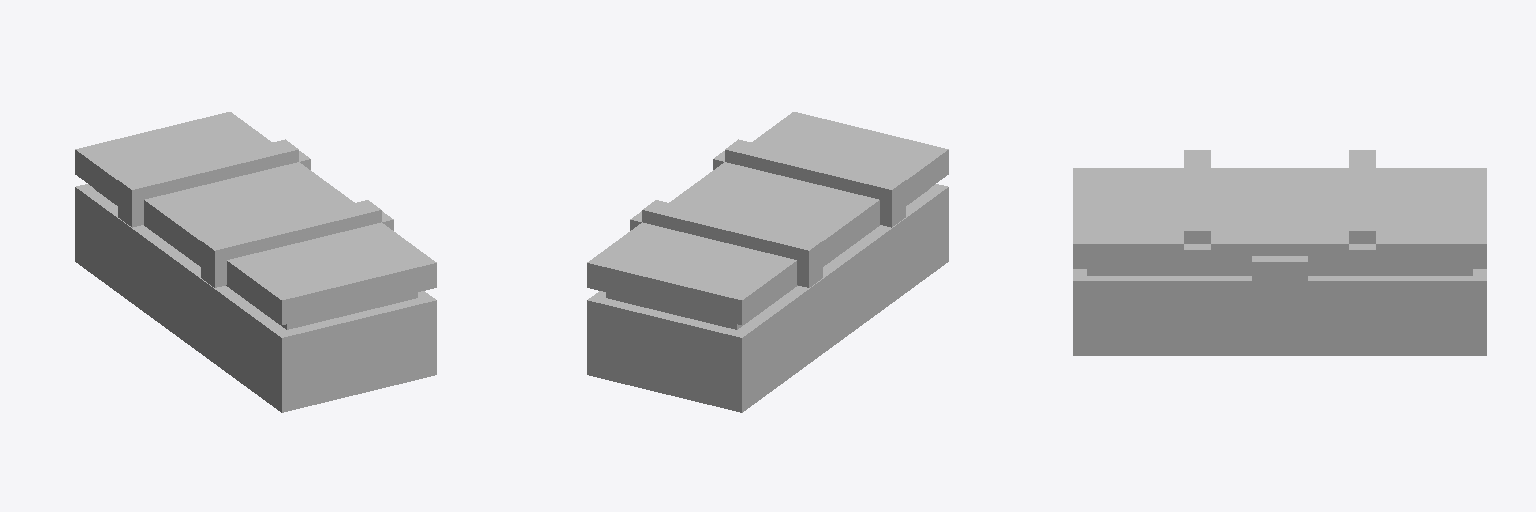
Rendered from chest.obj.
3 renders of one model, left to right at view 1: azimuth 30°, elevation 25°; view 2: azimuth 150°, elevation 25°; view 3: azimuth 270°, elevation 25°, orthographic.
Parts seen in each view (by area): view 1: AmmoBox_5; view 2: AmmoBox_5; view 3: AmmoBox_5.
Boxes of the visible parts, <box> form: AmmoBox_5: <box>75,112,436,412</box>; AmmoBox_5: <box>587,112,948,412</box>; AmmoBox_5: <box>1073,150,1486,355</box>.
Bounding box in the file's own units: 0.75 × 0.5 × 1.5.